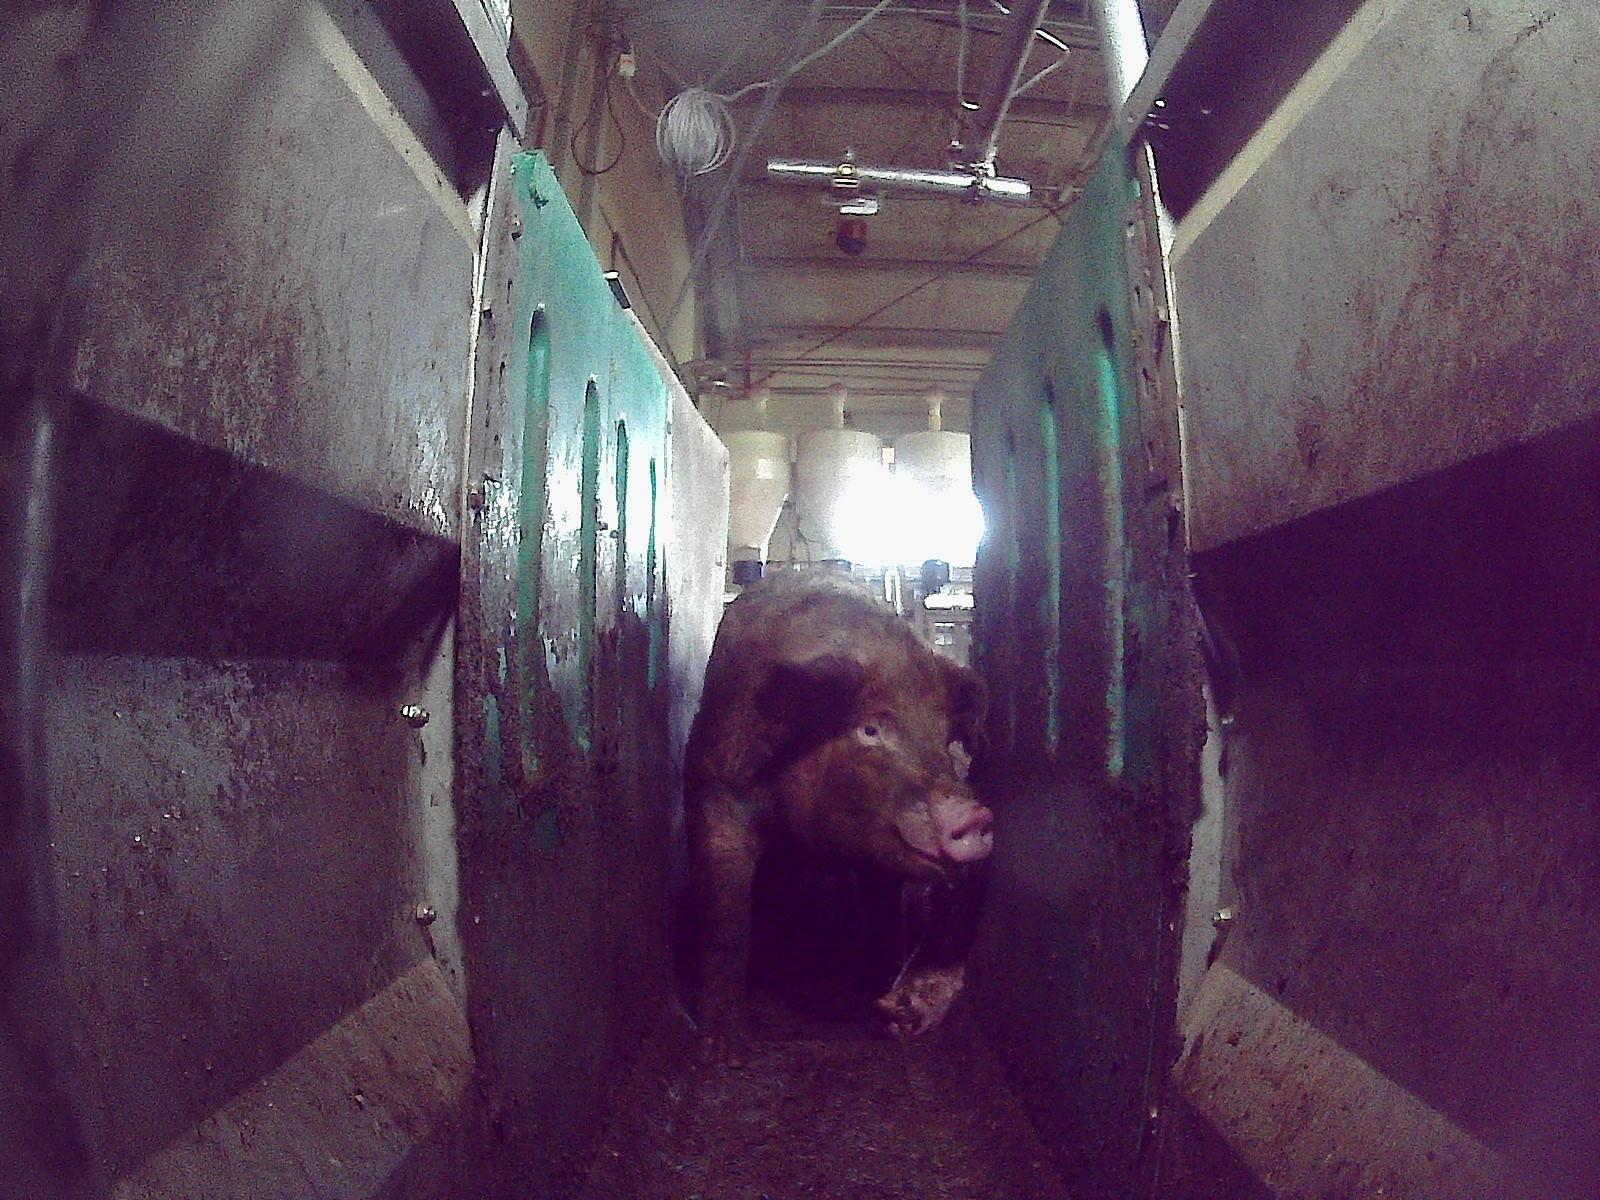Face: (786, 646, 996, 885)
